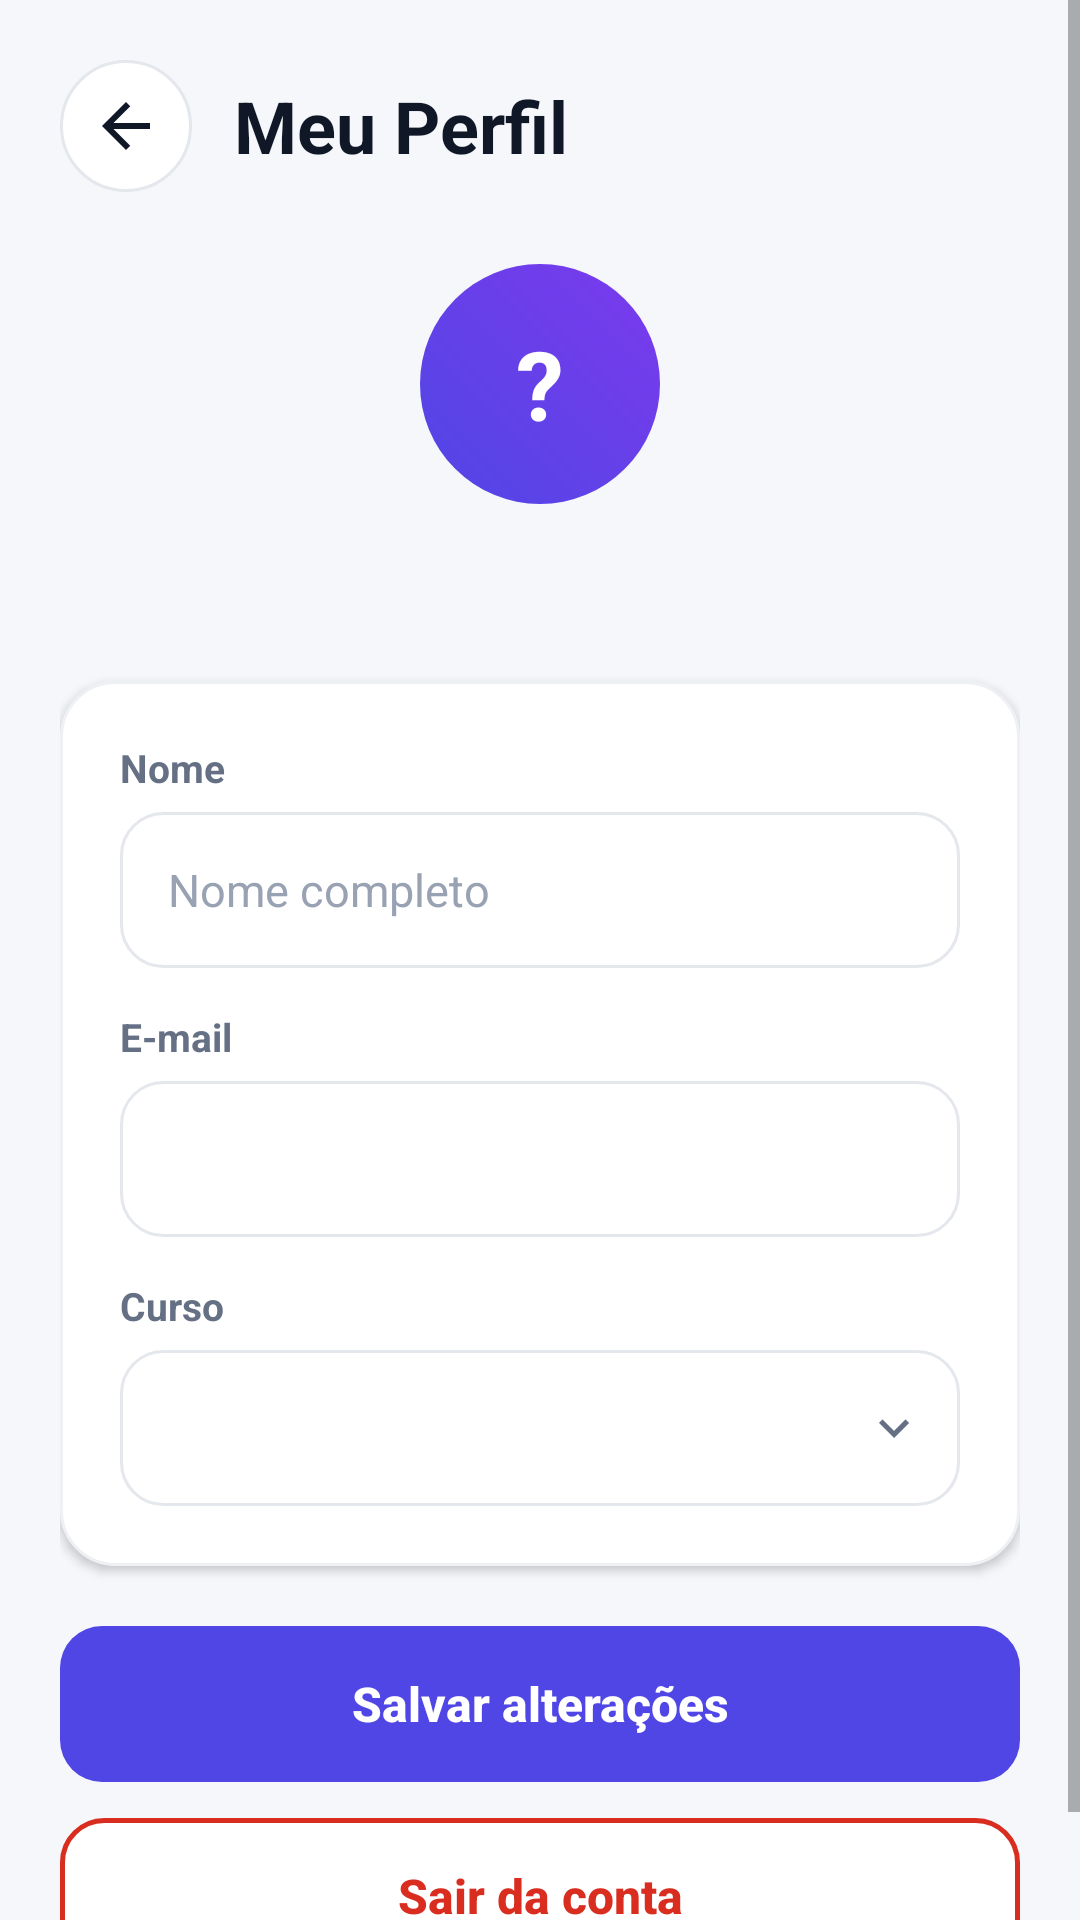

Named icons in this screenshot (1080px x 1920px) and their bounding boxes, bbox=[x1, y1, x2, y2]:
Voltar: bbox=[60, 60, 192, 192]
